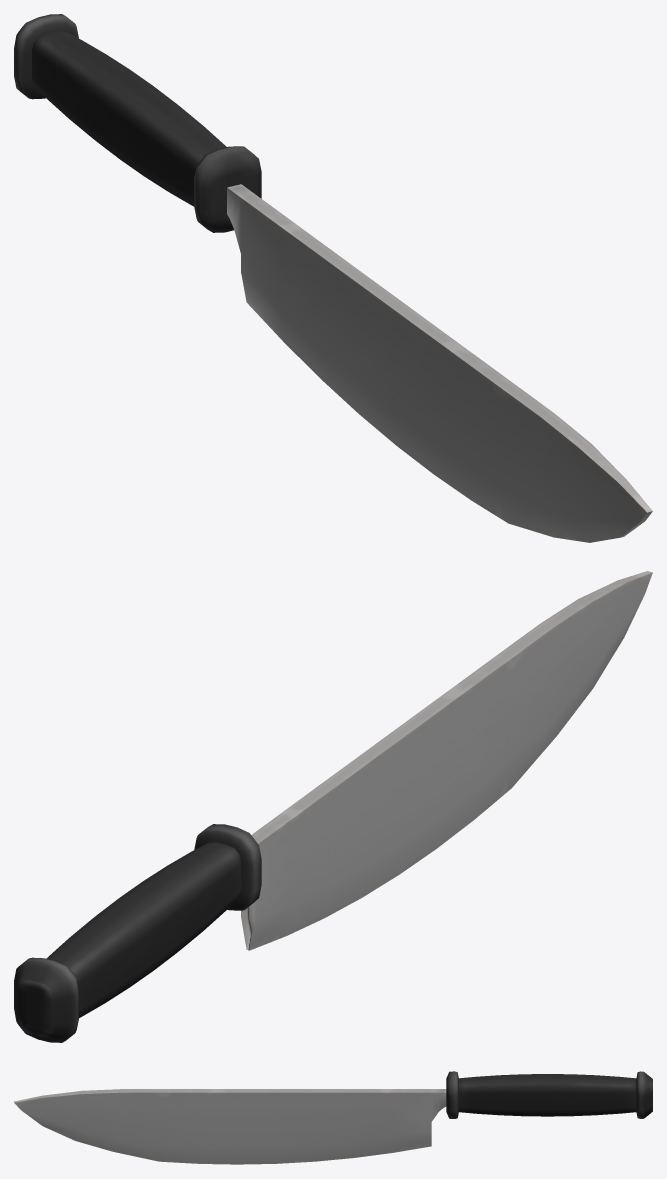
File: SM_KitchenUstensil_Knife.fbx
3 renders of one model, top to bottom at view 1: azimuth 30°, elevation 25°; view 2: azimuth 150°, elevation 25°; view 3: azimuth 270°, elevation 25°, orthographic. The views are drawn at different scales.
Visible parts, largest first — view 1: SM_KitchenUstensil_Knife_LOD0; view 2: SM_KitchenUstensil_Knife_LOD0; view 3: SM_KitchenUstensil_Knife_LOD0.
Boxes of the visible parts, x1=… form: SM_KitchenUstensil_Knife_LOD0: x1=14, y1=14, x2=652, y2=542; SM_KitchenUstensil_Knife_LOD0: x1=14, y1=571, x2=652, y2=1042; SM_KitchenUstensil_Knife_LOD0: x1=14, y1=1071, x2=652, y2=1164.
Size of the model in its own units: 3.2 by 55.77 by 8.62.
Materials: 1 (1 with a texture image).
